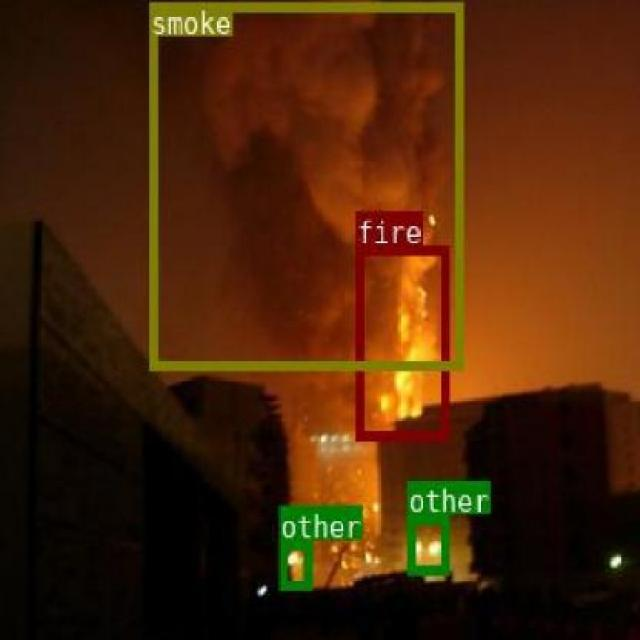fire: (354, 244, 448, 438)
smoke: (149, 1, 460, 368)
